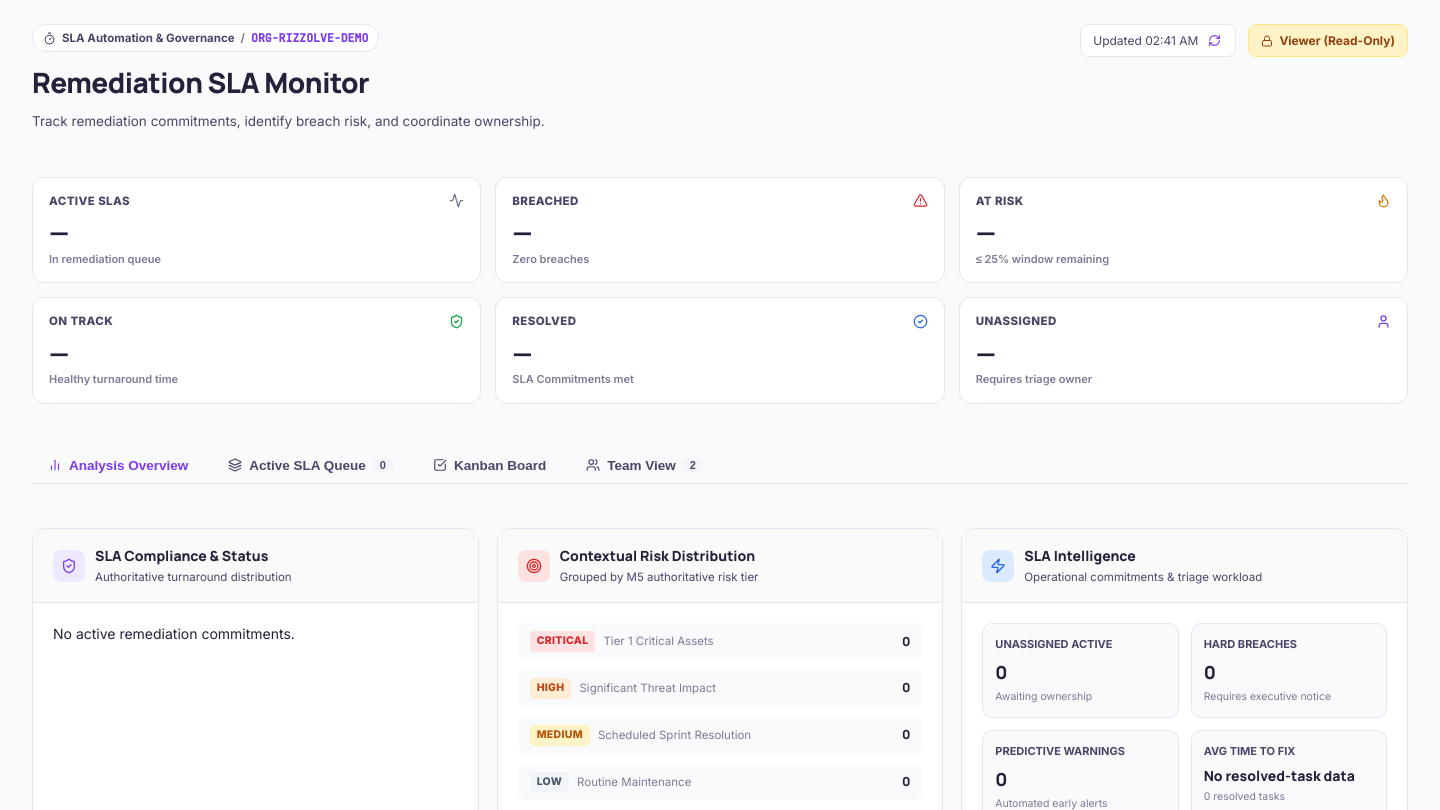
Test: Remediation SLA Monitor Component › 5. switches to Active SLA Queue and displays detailed task cards
Click the text "Active SLA Queue". click: (308,465)
box: [249,458,366,473]
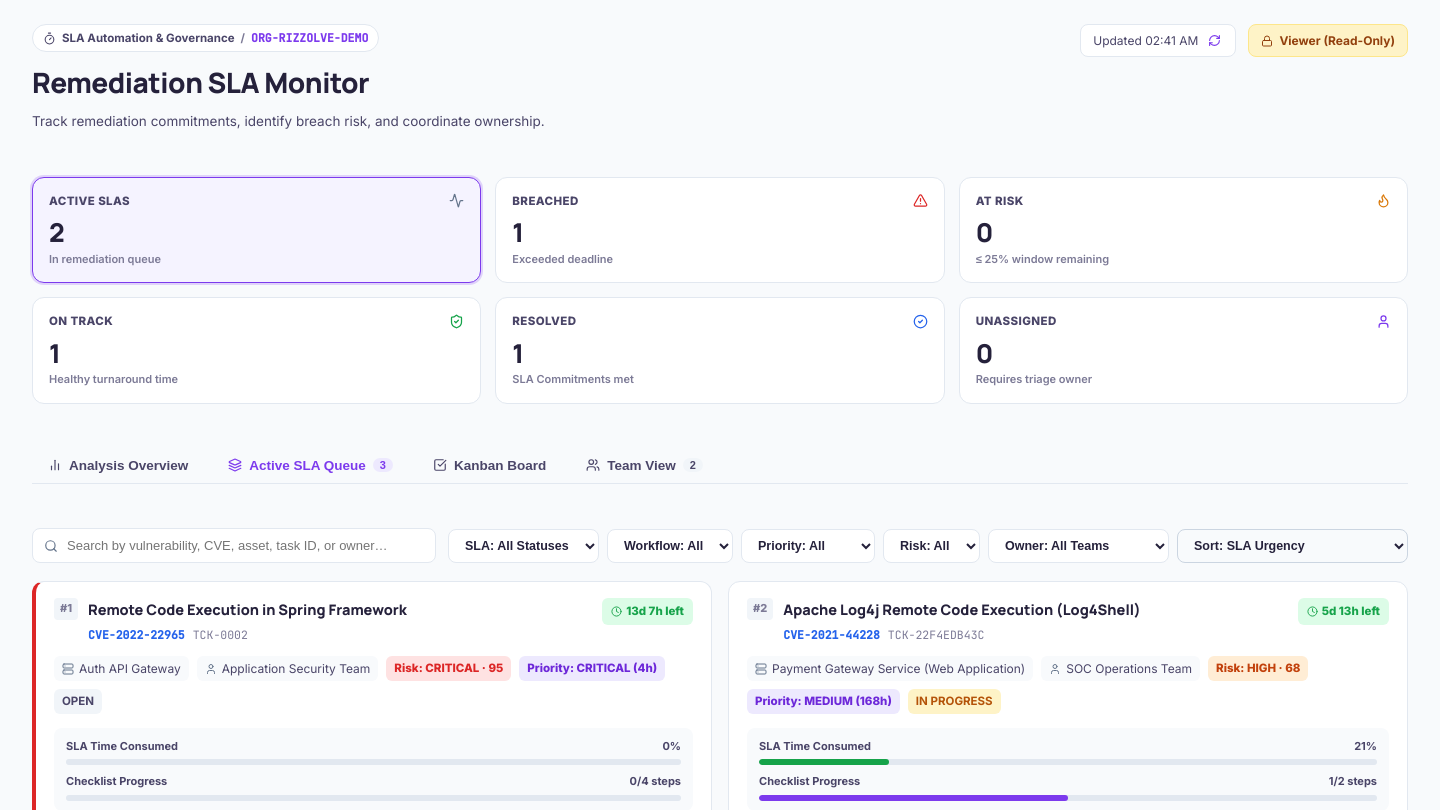
Check: the field with placeholder "Search by vulnerability, CVE, asset, task ID, or owner…" is shown, box [32,528,436,563]
Check: the text "CVE-2021-44228" is shown, box [783,626,880,644]
Check: the text "Risk: HIGH · 68" is shown, box [1208,656,1308,681]
